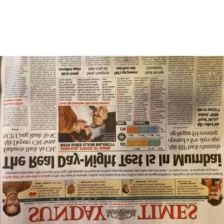news_paper: (0, 55, 224, 224)
